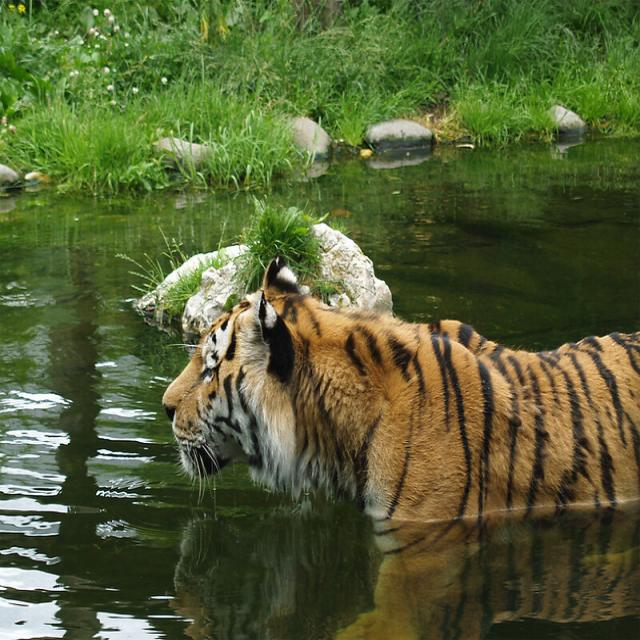Tiger: (154, 242, 639, 543)
